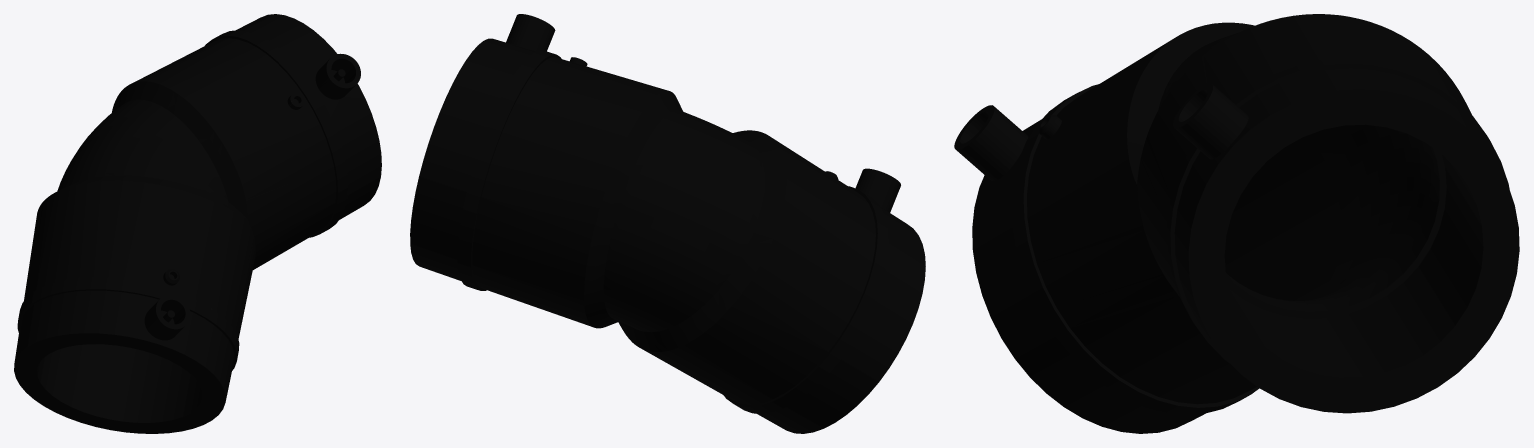
The model's file is отвод-45.glb.
3 views of the same model, side by side, from view 1: azimuth 30°, elevation 25°; view 2: azimuth 150°, elevation 25°; view 3: azimuth 270°, elevation 25° (orthographic). The views are drawn at different scales.
Parts seen in each view (by area): view 1: node_id3; view 2: node_id3; view 3: node_id3.
Boxes of the visible parts, box(x1,y1,x2,y2) form: node_id3: box(14, 14, 381, 433); node_id3: box(410, 14, 925, 433); node_id3: box(954, 14, 1519, 433).
Bounding box in the file's own units: 0.469 × 0.3859 × 0.3945.
Materials: 1 (1 with a texture image).
